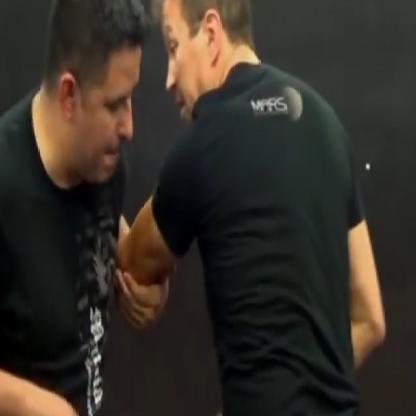knife: (25, 400, 150, 415)
